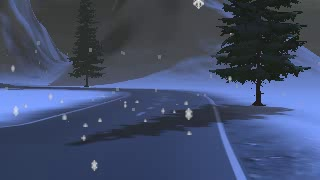Lane: (0, 85, 243, 179)
